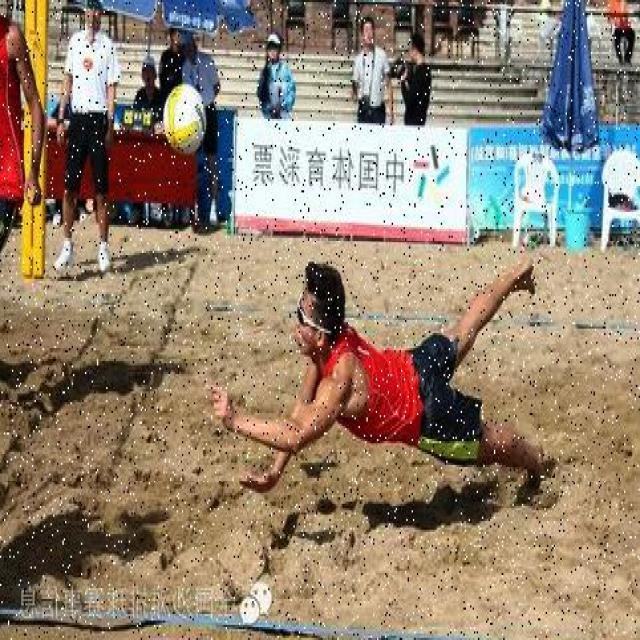fall: (211, 262, 542, 494)
